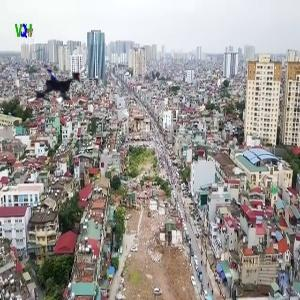drone: (15, 42, 89, 116)
